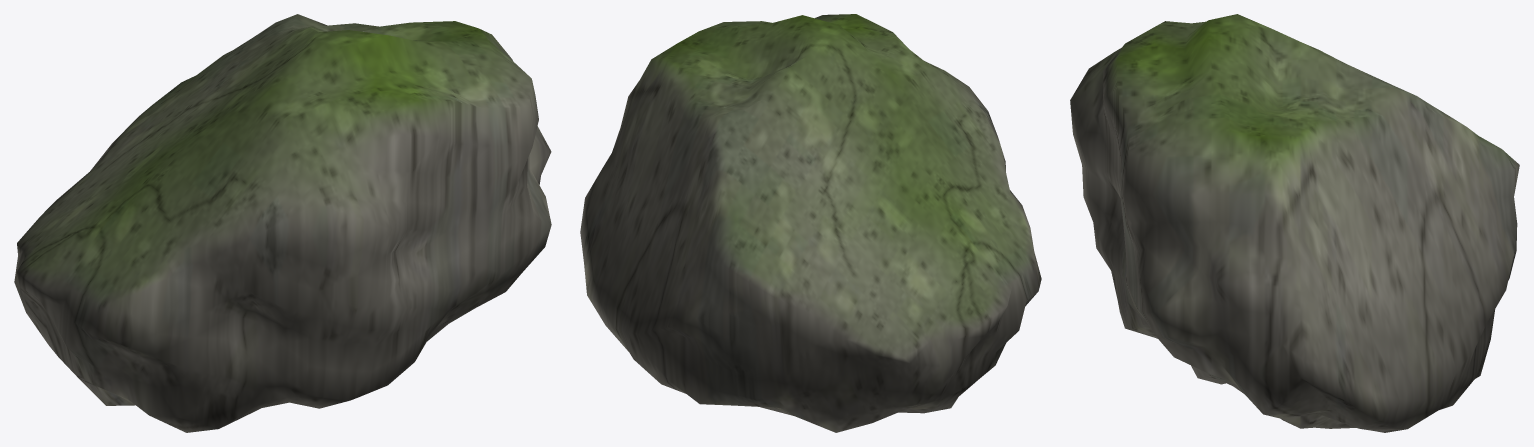
Rendered from rock-mossy-1.lite.glb.
3 views of the same model, side by side, from view 1: azimuth 30°, elevation 25°; view 2: azimuth 150°, elevation 25°; view 3: azimuth 270°, elevation 25° (orthographic). The views are drawn at different scales.
Parts seen in each view (by area): view 1: model; view 2: model; view 3: model.
Boxes of the visible parts, <box> form: model: <box>14,14,551,432</box>; model: <box>580,14,1041,432</box>; model: <box>1070,14,1519,432</box>.
Bounding box in the file's own units: 1 × 0.7362 × 0.7876.
Materials: 1 (1 with a texture image).
